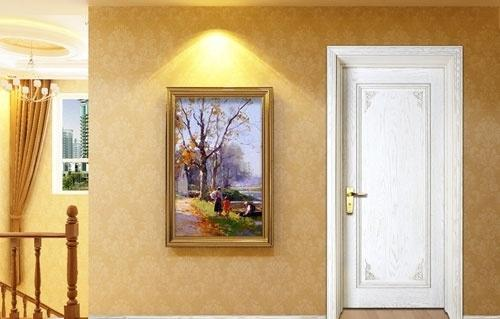door: (342, 68, 447, 309)
